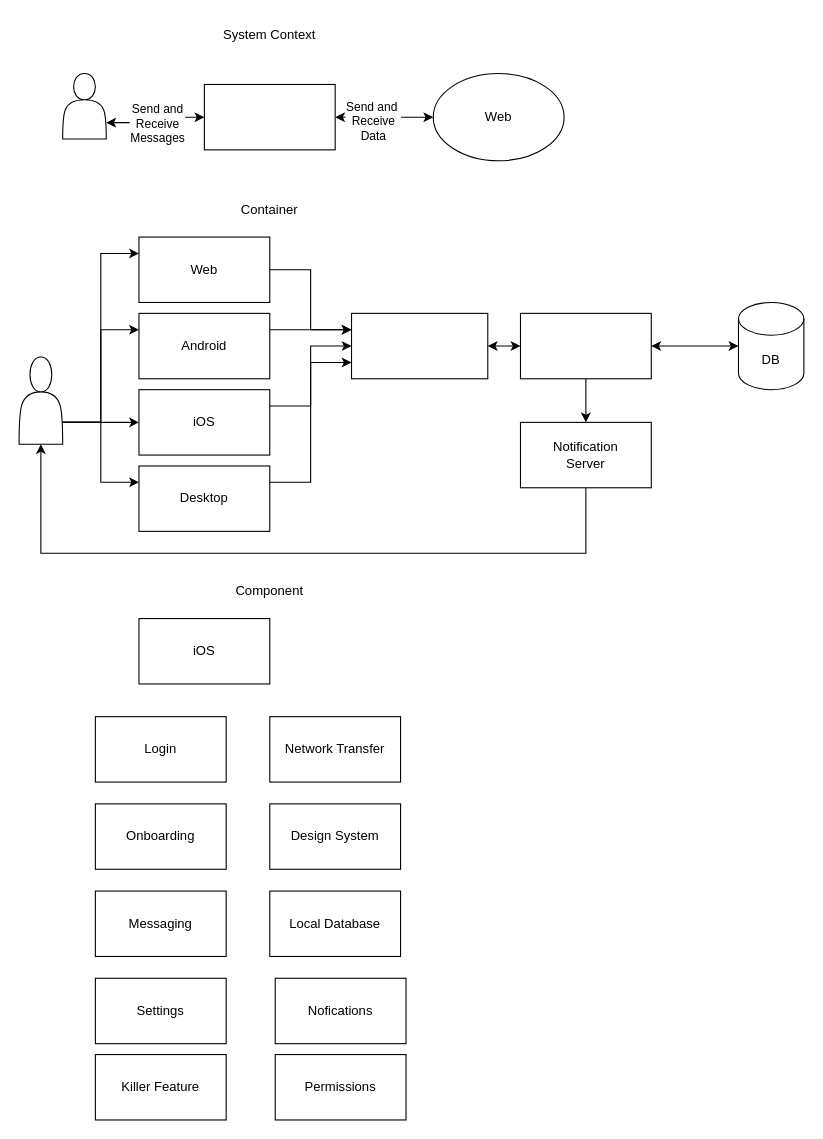
Some shapes in this 823 by 1139 pixel diagram are drawn without their labels. The shapes that lost their labels are listed below. From the top down, each one's centre as x and y in pixels, then its label:
the point at 269,116: Messaging System
the point at 419,345: Backend Endpoint
the point at 585,345: Backend Server
